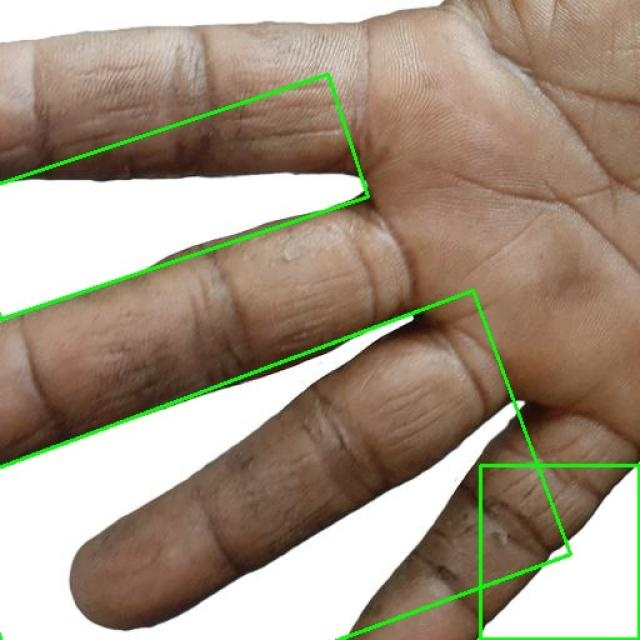Eczema: (0, 284, 570, 640), (0, 74, 373, 332), (480, 465, 639, 639)
